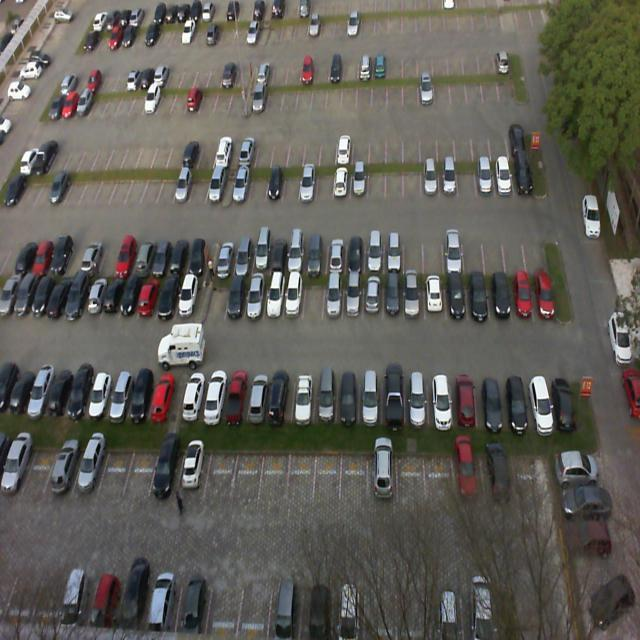space-empty: (94, 445, 132, 502), (123, 442, 158, 502), (231, 451, 264, 504), (204, 448, 238, 498), (312, 451, 342, 507), (21, 446, 55, 494), (259, 448, 290, 500), (288, 449, 314, 504), (483, 227, 507, 275), (205, 273, 225, 327), (303, 276, 324, 324), (155, 165, 178, 208), (525, 229, 548, 272), (188, 164, 211, 206), (505, 227, 526, 272), (425, 229, 445, 276), (139, 165, 162, 205), (404, 226, 424, 272), (464, 228, 484, 272), (458, 162, 478, 198), (283, 164, 300, 205), (250, 166, 268, 204), (368, 162, 386, 200), (388, 162, 404, 200), (403, 163, 420, 198), (316, 166, 332, 200)
space-occupied: (71, 446, 106, 501), (148, 444, 182, 500), (43, 445, 78, 499), (545, 370, 576, 426), (499, 373, 528, 432), (175, 445, 208, 496), (223, 370, 254, 424), (523, 371, 550, 428), (64, 367, 93, 420), (476, 372, 502, 429), (117, 271, 146, 322), (222, 272, 249, 326), (83, 371, 112, 421), (106, 371, 134, 422), (452, 374, 479, 426), (136, 267, 162, 320), (428, 375, 454, 428), (127, 370, 154, 420), (312, 372, 336, 428), (268, 373, 294, 424), (154, 274, 180, 324), (203, 370, 229, 420), (246, 372, 272, 422), (262, 270, 286, 324), (530, 270, 557, 318), (148, 374, 175, 422), (359, 371, 382, 426), (174, 272, 198, 324), (382, 371, 405, 424), (101, 270, 125, 320), (241, 275, 265, 325), (335, 373, 359, 423), (290, 372, 313, 424), (405, 374, 428, 426), (486, 273, 511, 320), (181, 373, 206, 418), (443, 226, 466, 273), (130, 236, 156, 276), (113, 238, 140, 276), (509, 276, 532, 320), (444, 277, 467, 320), (467, 275, 488, 322), (148, 237, 172, 278), (363, 276, 384, 322), (282, 276, 302, 324), (167, 238, 192, 276), (322, 277, 343, 322), (188, 239, 212, 278), (511, 156, 534, 196), (287, 234, 310, 274), (404, 274, 424, 320), (426, 276, 446, 322), (172, 165, 193, 208), (382, 231, 404, 272), (229, 238, 252, 277), (204, 166, 226, 206), (231, 164, 252, 205), (213, 239, 236, 276), (384, 276, 402, 322), (307, 234, 328, 273), (345, 231, 364, 274), (268, 236, 290, 272), (251, 235, 272, 272), (345, 275, 362, 320), (324, 235, 344, 273), (364, 235, 383, 273), (478, 158, 496, 198), (299, 166, 317, 205), (494, 160, 514, 195), (267, 166, 284, 207), (422, 163, 440, 198), (333, 165, 350, 202), (440, 162, 458, 195), (351, 164, 367, 198)
